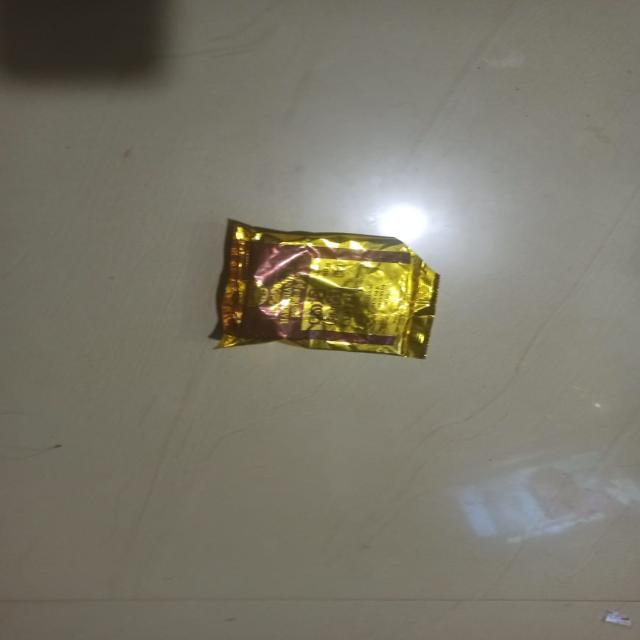Harischandra Coffee: (204, 214, 394, 335)
